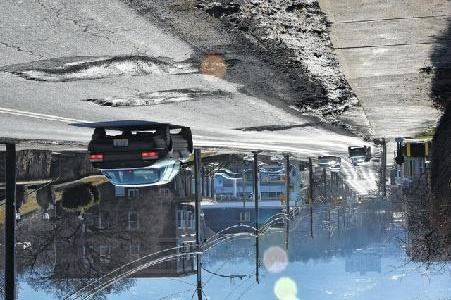pothole: (2, 55, 171, 85), (81, 87, 198, 109), (231, 124, 296, 133)
